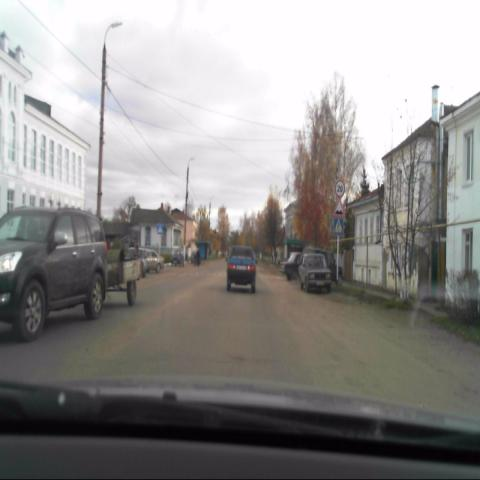1_16: (334, 198, 344, 216)
3_24: (334, 180, 344, 198)
5_19_1: (333, 218, 344, 237)
